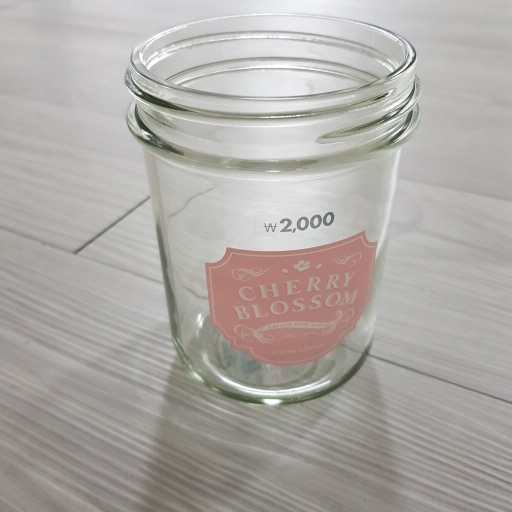Glass_5: (123, 12, 422, 412)
